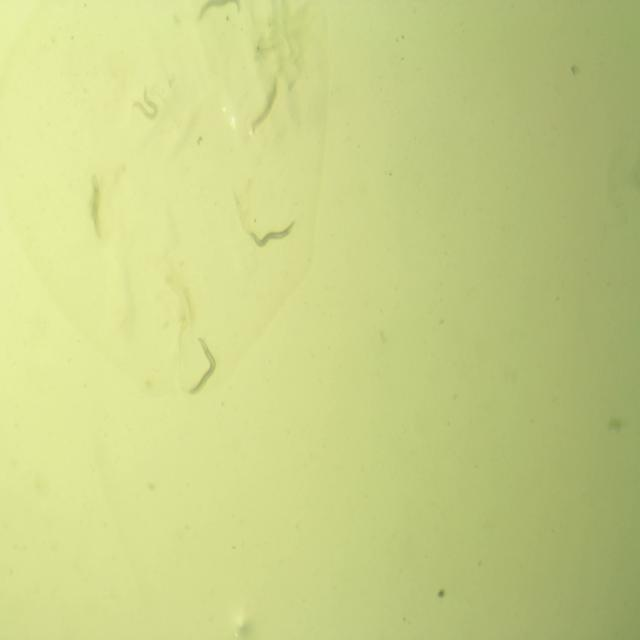worm: (180, 332, 220, 398), (247, 70, 282, 140), (244, 212, 299, 253), (84, 169, 108, 241), (130, 83, 164, 125), (193, 0, 246, 22)
